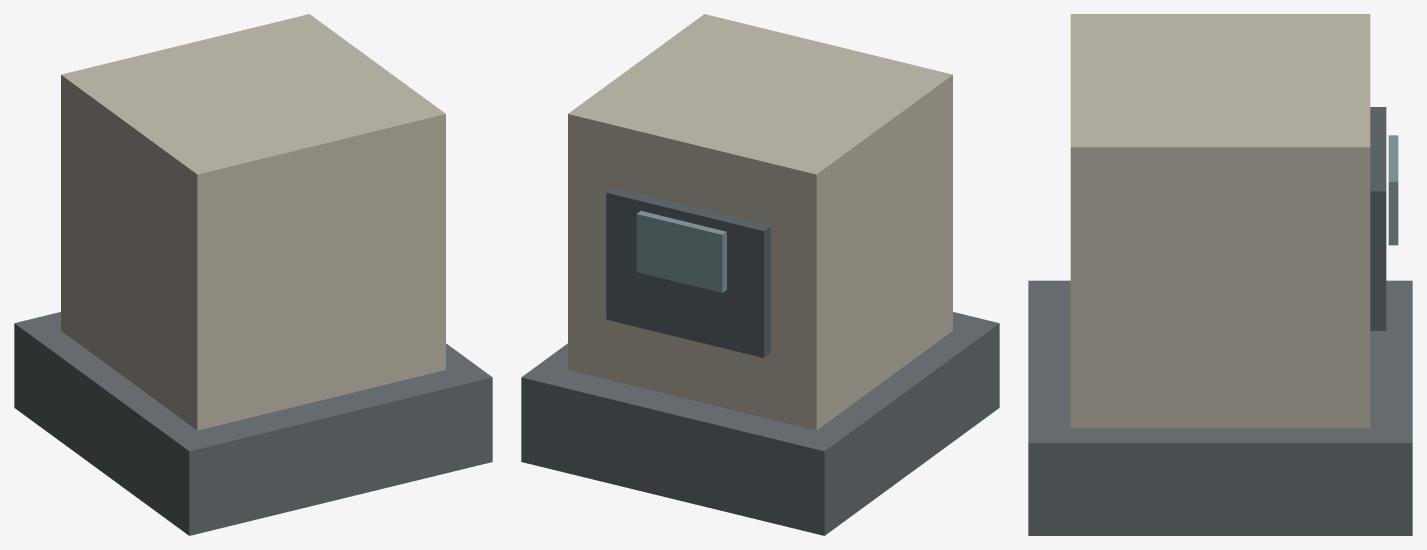
Rendered from iz3_build_defense_turret_01.glb.
3 views of the same model, side by side, from view 1: azimuth 30°, elevation 25°; view 2: azimuth 150°, elevation 25°; view 3: azimuth 270°, elevation 25° (orthographic). The views are drawn at different scales.
Parts seen in each view (by area): view 1: cabinet, base; view 2: cabinet, base, panel, display; view 3: cabinet, base, panel, display.
Boxes of the visible parts, box(x1,y1,x2,y2) form: cabinet: box(61, 14, 445, 430); base: box(14, 312, 492, 535); cabinet: box(568, 14, 952, 430); base: box(521, 312, 999, 535); panel: box(606, 187, 770, 357); display: box(636, 211, 726, 292); cabinet: box(1070, 14, 1370, 428); base: box(1028, 280, 1412, 535); panel: box(1370, 107, 1386, 330); display: box(1388, 135, 1398, 245).
Bounding box in the file's own units: 1.2 × 1.29 × 1.2.
